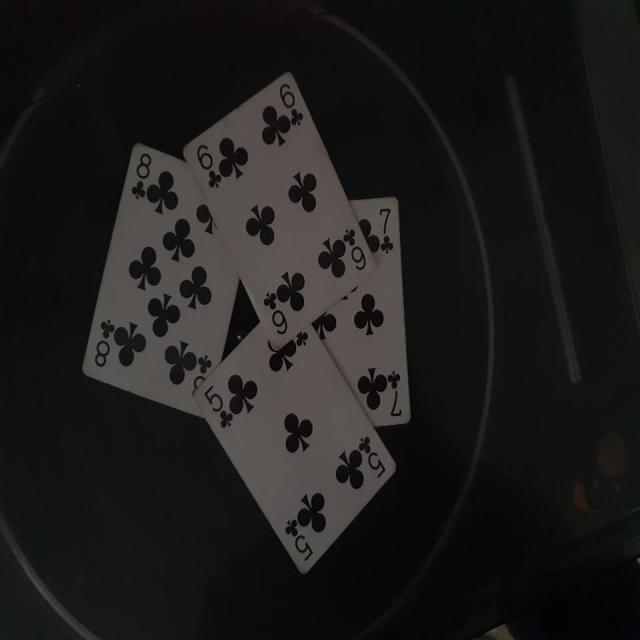5 Trefoils: (194, 316, 396, 578)
6 Trefoils: (183, 71, 379, 352)
7 Trefoils: (307, 196, 415, 426)
8 Trefoils: (79, 141, 241, 419)
